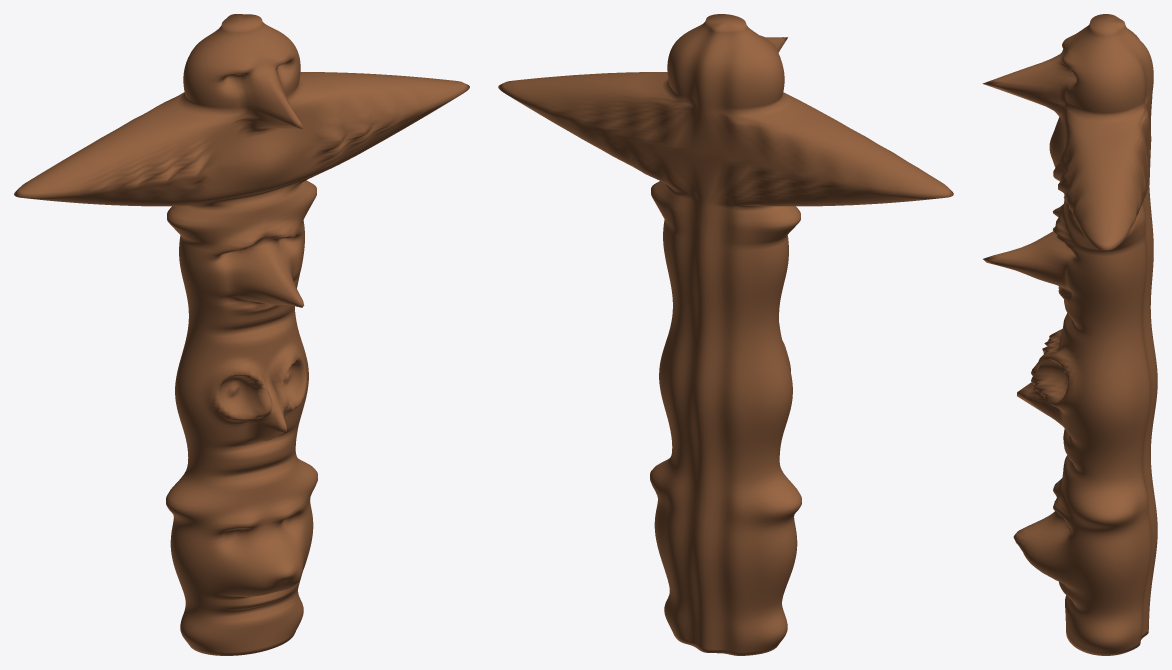
The model's file is NEW_RECOVERY_126_LOD0.fbx.
3 views of the same model, side by side, from view 1: azimuth 30°, elevation 25°; view 2: azimuth 150°, elevation 25°; view 3: azimuth 270°, elevation 25° (orthographic).
Visible parts, largest first — view 1: Original_stacked_animal_pole; view 2: Original_stacked_animal_pole; view 3: Original_stacked_animal_pole.
Boxes of the visible parts, x1=… form: Original_stacked_animal_pole: x1=14, y1=14, x2=469, y2=655; Original_stacked_animal_pole: x1=498, y1=14, x2=953, y2=655; Original_stacked_animal_pole: x1=982, y1=14, x2=1157, y2=655.
Bounding box in the file's own units: 394 × 133 × 510.
